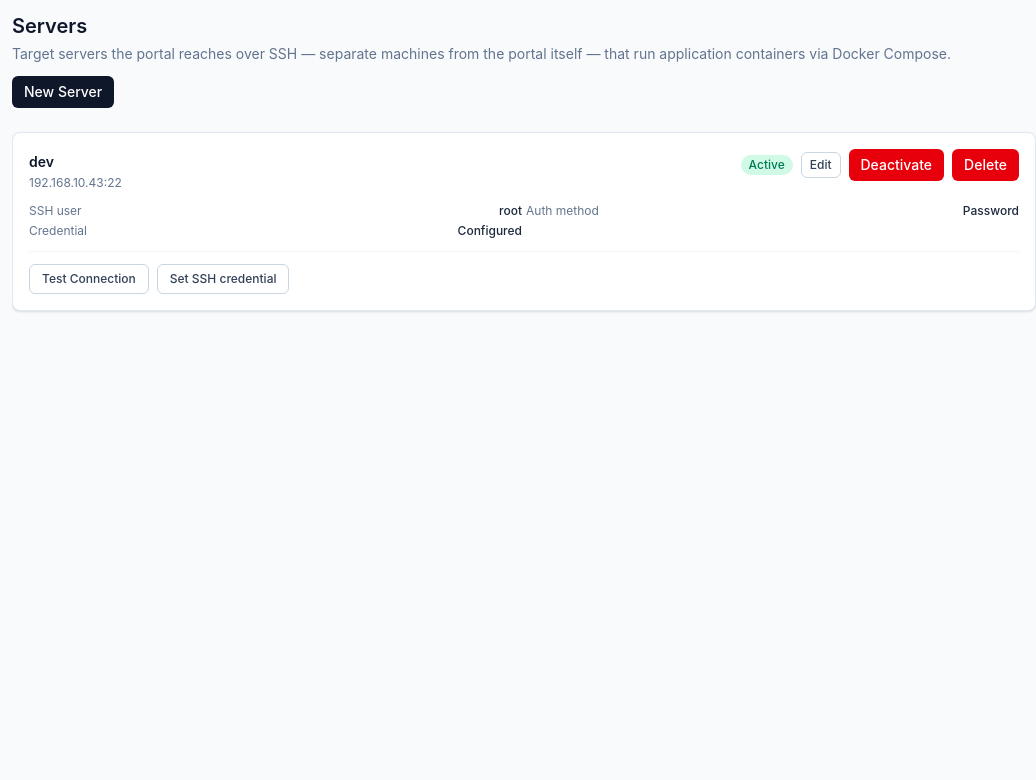
Scenario: TargetServersPage — Allowed deployment roots discoverability › shows "Add allowed root" when clicking Edit, without requiring a separate click on the server name
This screenshot has width=1036, height=780.
expect the text "Allowed deployment roots" is not shown: met
What coordinates should you click on to do the following:
click the button "Edit"
I would click on:
 (821, 165)
Its box is [801,152,841,178].
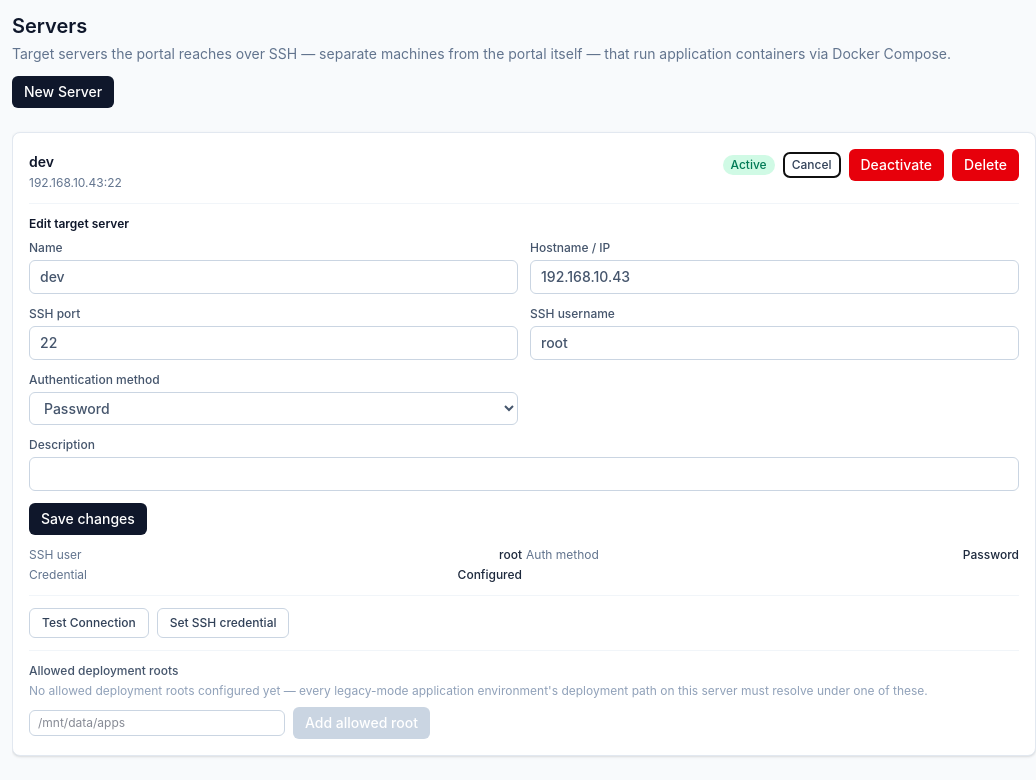
expect the text "Allowed deployment roots" is shown: met, box [29,663,178,678]
expect the field with placeholder "/mnt/data/apps" is shown: met, box [29,710,285,736]
expect the button "Add allowed root" is shown: met, box [293,707,430,739]
